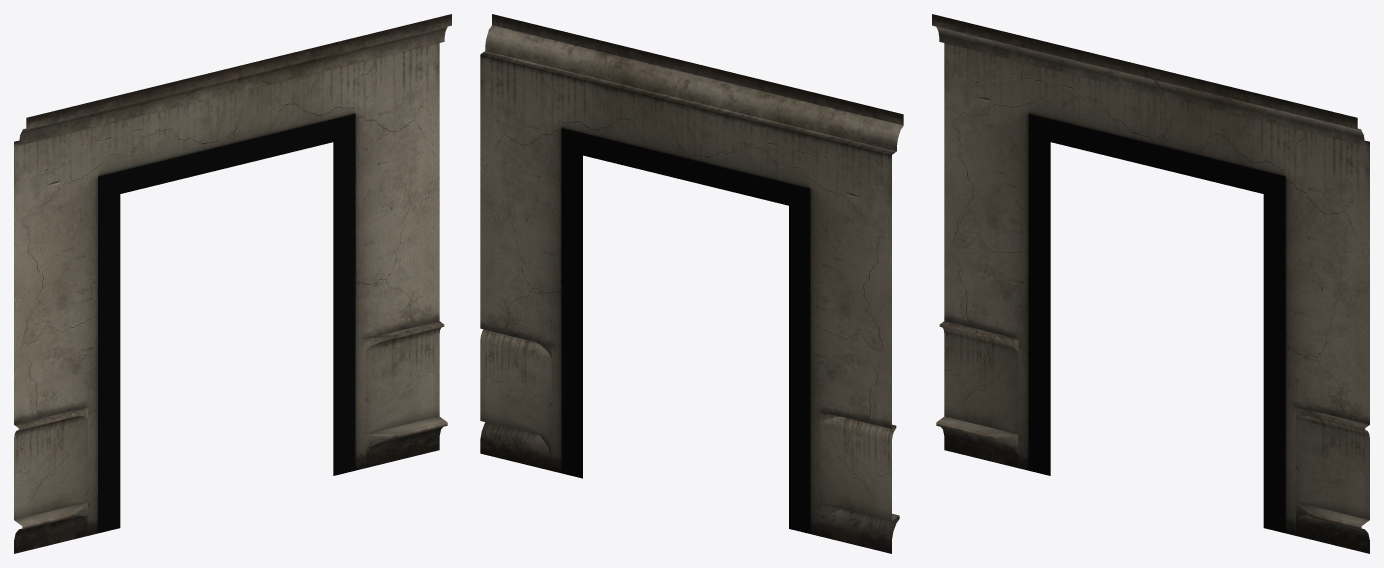
Rendered from door_way.dae.
The picture shows the model from 3 angles, left to right: view 1: azimuth 30°, elevation 25°; view 2: azimuth 150°, elevation 25°; view 3: azimuth 330°, elevation 25°; orthographic projection. The views are drawn at different scales.
Visible parts, largest first — view 1: mansionbase_doorway; view 2: mansionbase_doorway; view 3: mansionbase_doorway.
Part boxes in pixels (bbox=[...]): mansionbase_doorway: bbox=[14, 14, 451, 553]; mansionbase_doorway: bbox=[480, 14, 903, 553]; mansionbase_doorway: bbox=[932, 14, 1369, 553].
Size of the model in its own units: 4 by 4 by 0.2011.
